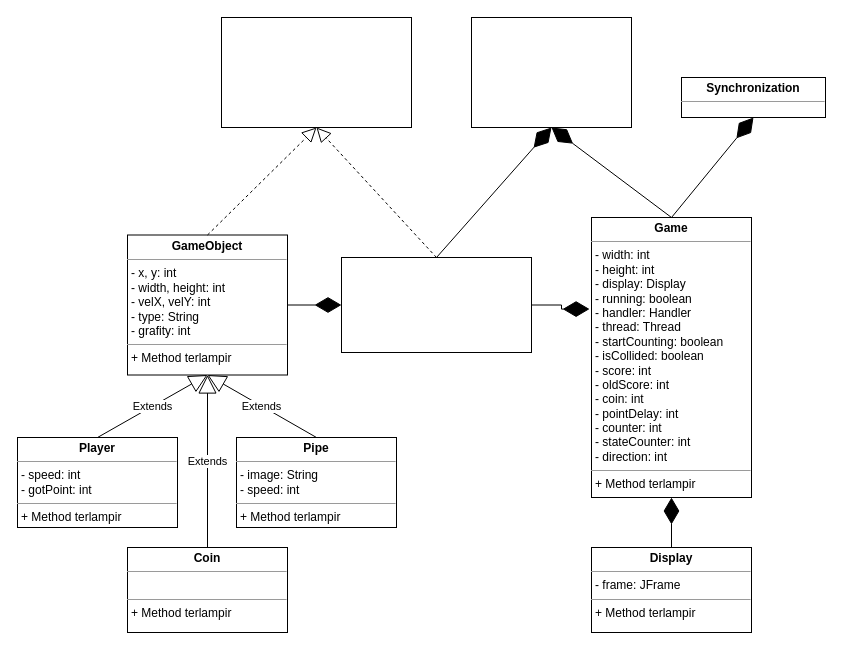
Some shapes in this 843 by 650 pixel diagram are drawn without their labels. The centre of each missing label's shape, as x and y in pixels:
"<<Interface>> GameInterface + render(Graphics) + loop()" goes at pixel 316 72.
"Controller - game: Game - handler: Handler - move: int + Method terlampir" goes at pixel 551 72.
"Handler - object: ArrayList<GameObject> - rand: Random + Method terlampir" goes at pixel 436 304.
